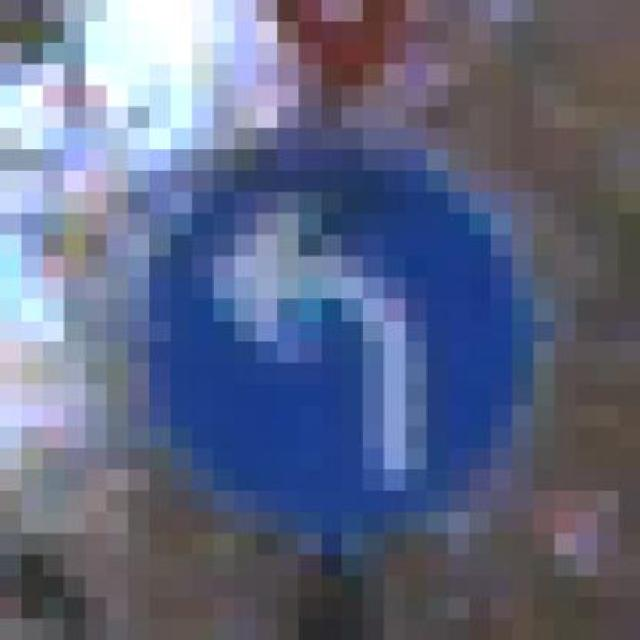Turn left ahead: (106, 128, 534, 512)
